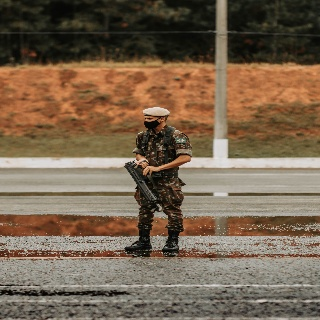rifle: (123, 158, 164, 212)
